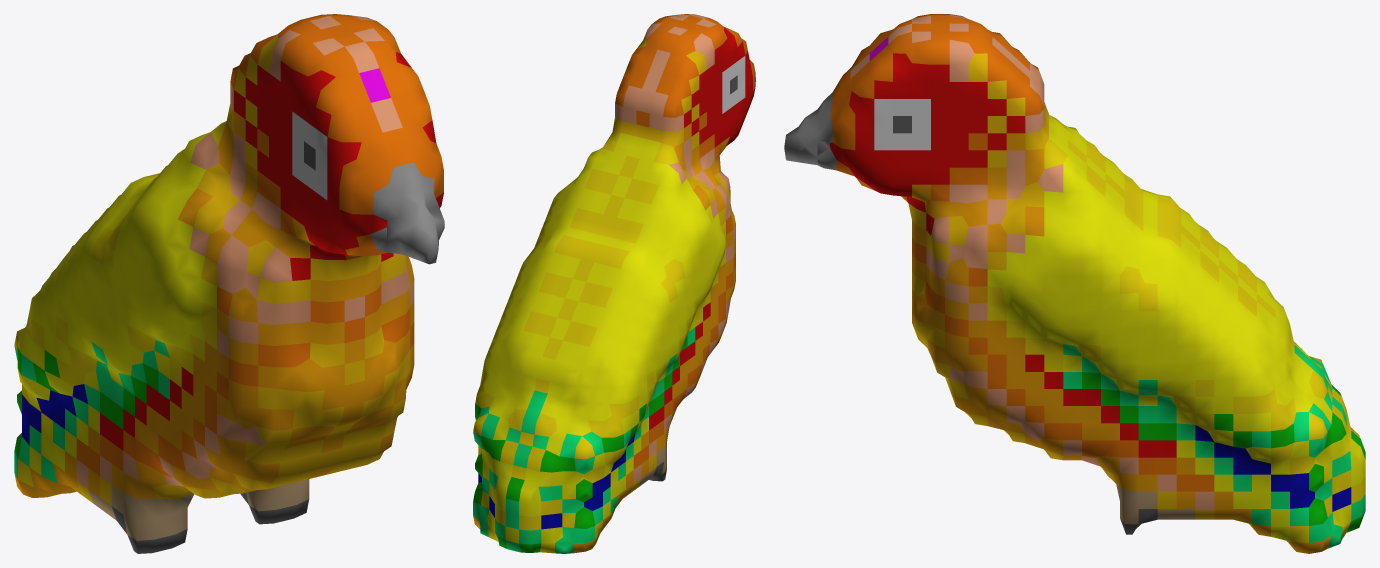
The picture shows the model from 3 angles, left to right: view 1: azimuth 30°, elevation 25°; view 2: azimuth 150°, elevation 25°; view 3: azimuth 270°, elevation 25°; orthographic projection. The views are drawn at different scales.
Bounding box in the file's own units: 0.55 × 1.45 × 1.54.
